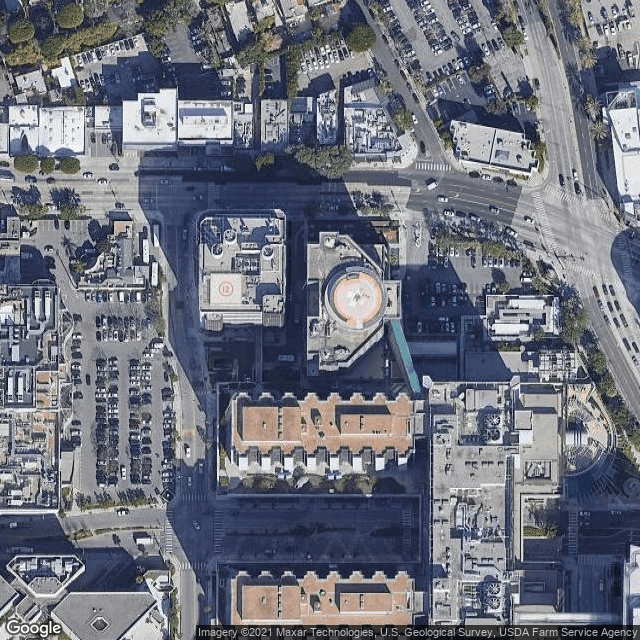Helipad: (332, 275, 380, 322), (208, 269, 244, 307)
